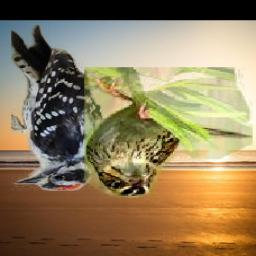Sparrow: (84, 68, 253, 200)
Woodpecker: (10, 25, 110, 191)
